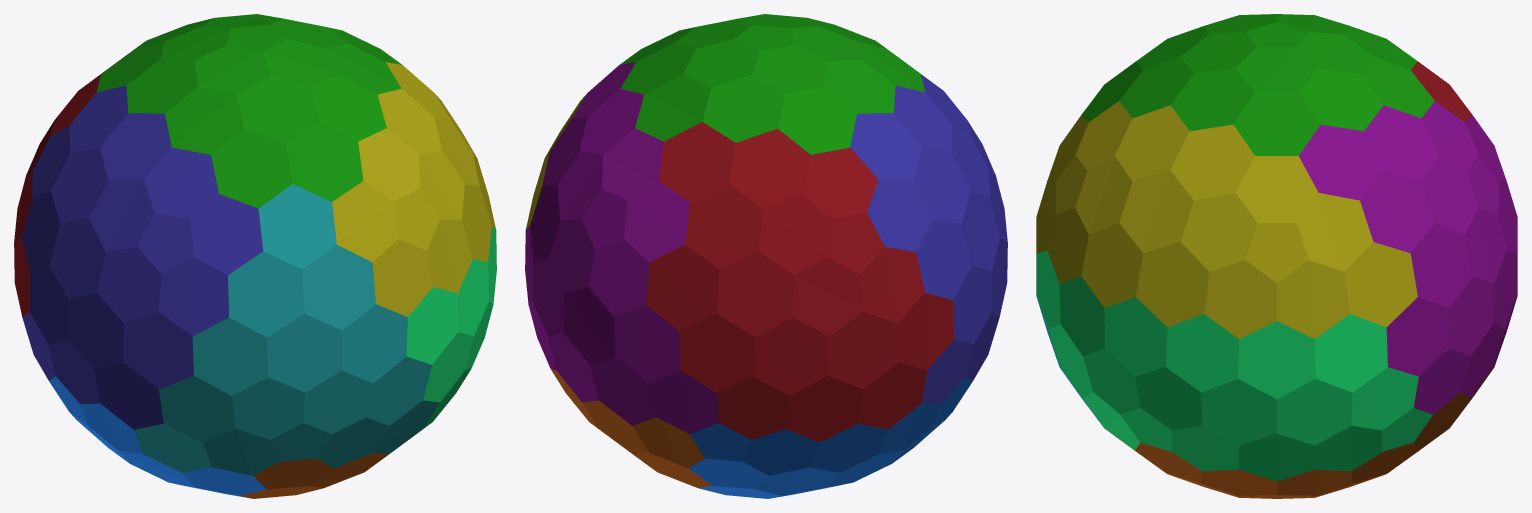
Rendered from HexagonPlanet.fbx.
The picture shows the model from 3 angles, left to right: view 1: azimuth 30°, elevation 25°; view 2: azimuth 150°, elevation 25°; view 3: azimuth 270°, elevation 25°; orthographic projection.
Visible parts, largest first — view 1: MSH_HexagonPiece61, MSH_HexagonPiece44, MSH_HexagonPiece60, MSH_HexagonPiece26, MSH_HexagonPiece80, MSH_HexagonPiece81, MSH_HexagonPiece25, MSH_HexagonPiece45, MSH_HexagonPiece62, MSH_HexagonPiece82, MSH_HexagonPiece12, MSH_HexagonPiece13 (+61 smaller); view 2: MSH_HexagonPiece68, MSH_HexagonPiece32, MSH_HexagonPiece69, MSH_HexagonPiece31, MSH_HexagonPiece88, MSH_HexagonPiece87, MSH_HexagonPiece17, MSH_HexagonPiece51, MSH_HexagonPiece67, MSH_HexagonPiece86, MSH_HexagonPiece16, MSH_HexagonPiece15 (+61 smaller); view 3: MSH_HexagonPiece74, MSH_HexagonPiece53, MSH_HexagonPiece56, MSH_HexagonPiece20, MSH_HexagonPiece22, MSH_HexagonPiece73, MSH_HexagonPiece75, MSH_HexagonPiece54, MSH_HexagonPiece55, MSH_HexagonPiece36, MSH_HexagonPiece40, MSH_HexagonPiece37 (+59 smaller).
Boxes of the visible parts, x1,y1,x2,y2 form: MSH_HexagonPiece61: (228,251,304,337); MSH_HexagonPiece44: (258,184,336,269); MSH_HexagonPiece60: (302,245,375,330); MSH_HexagonPiece26: (211,128,292,208); MSH_HexagonPiece80: (267,314,342,392); MSH_HexagonPiece81: (192,317,268,395); MSH_HexagonPiece25: (286,122,363,201); MSH_HexagonPiece45: (190,194,263,274); MSH_HexagonPiece62: (158,257,228,336); MSH_HexagonPiece82: (123,311,193,389); MSH_HexagonPiece12: (237,75,319,142); MSH_HexagonPiece13: (165,87,243,154); MSH_HexagonPiece68: (717,251,793,337); MSH_HexagonPiece32: (685,184,763,269); MSH_HexagonPiece69: (646,245,719,330); MSH_HexagonPiece31: (729,128,810,208); MSH_HexagonPiece88: (679,314,754,392); MSH_HexagonPiece87: (753,317,829,395); MSH_HexagonPiece17: (658,122,735,201); MSH_HexagonPiece51: (758,194,831,274); MSH_HexagonPiece67: (793,257,863,336); MSH_HexagonPiece86: (828,311,898,389); MSH_HexagonPiece16: (702,75,784,142); MSH_HexagonPiece15: (778,87,856,154); MSH_HexagonPiece74: (1238,321,1315,398); MSH_HexagonPiece53: (1344,242,1417,327); MSH_HexagonPiece56: (1136,242,1209,327); MSH_HexagonPiece20: (1299,124,1383,200); MSH_HexagonPiece22: (1170,124,1254,200); MSH_HexagonPiece73: (1315,314,1387,392); MSH_HexagonPiece75: (1166,314,1238,392); MSH_HexagonPiece54: (1277,260,1349,339); MSH_HexagonPiece55: (1204,260,1276,339); MSH_HexagonPiece36: (1360,170,1434,253); MSH_HexagonPiece40: (1119,170,1193,253); MSH_HexagonPiece37: (1296,193,1373,271).
Size of the model in its own units: 488 by 492 by 487.
